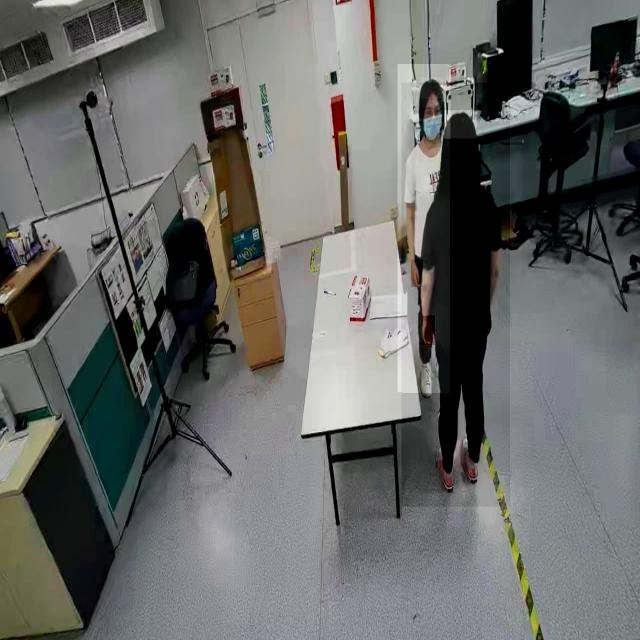face_mask: (424, 108, 446, 144)
hand_noglove: (422, 316, 435, 346), (411, 260, 423, 288)
head_nohelmet: (444, 110, 476, 140), (420, 78, 444, 100)
person: (401, 82, 510, 508), (397, 64, 451, 393)
shoes: (434, 441, 458, 494), (459, 431, 482, 486), (418, 360, 436, 402)
